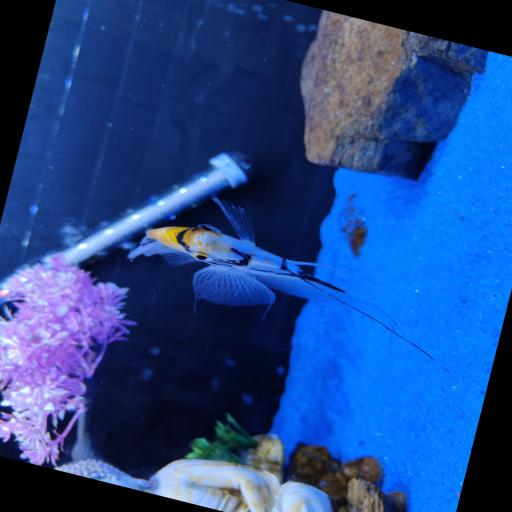Fish: (128, 197, 433, 359)
